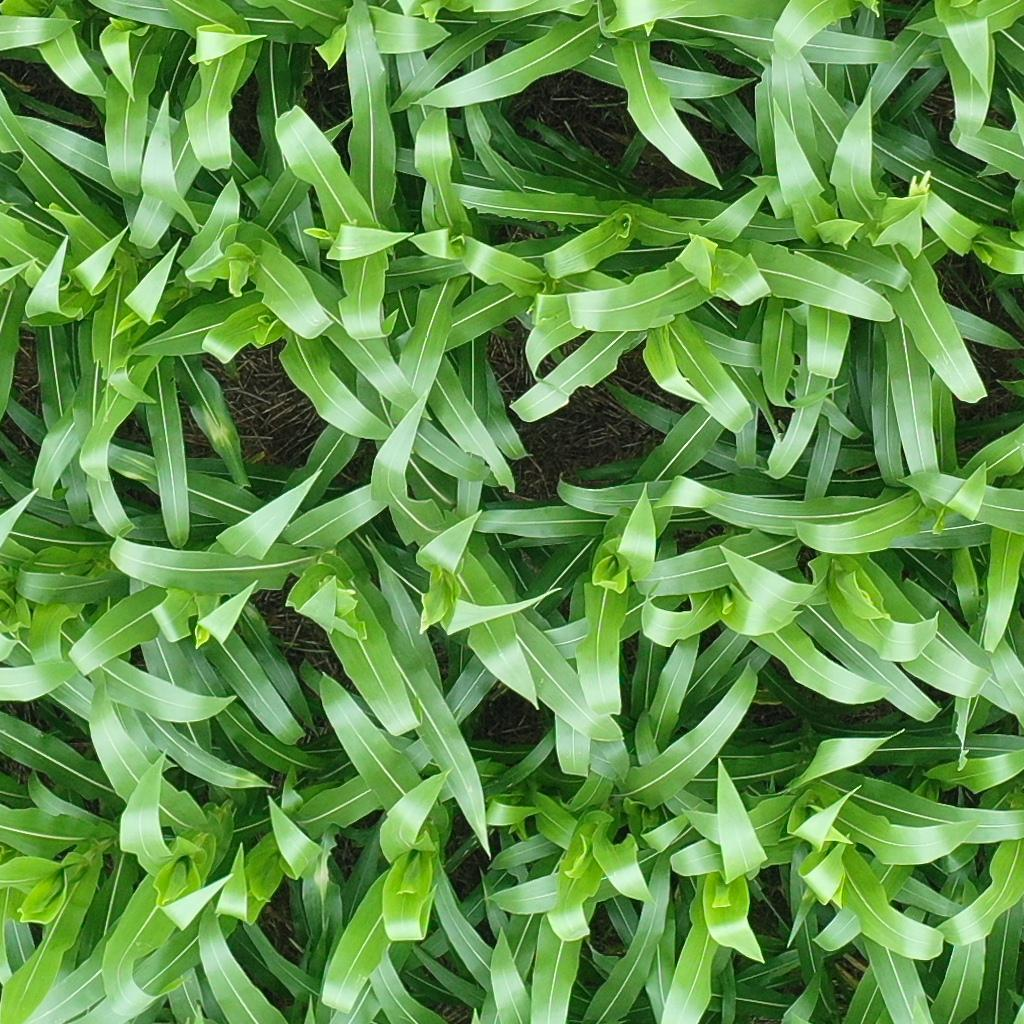Tassel: (905, 164, 933, 195)
